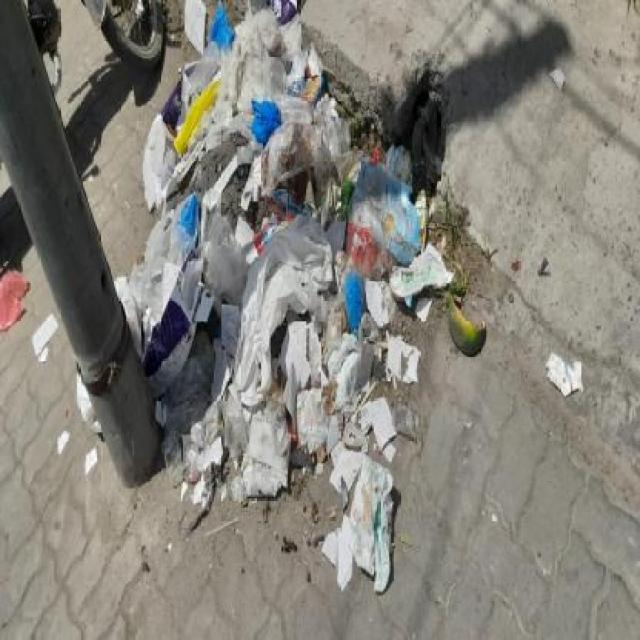garbage: (2, 37, 594, 603)
